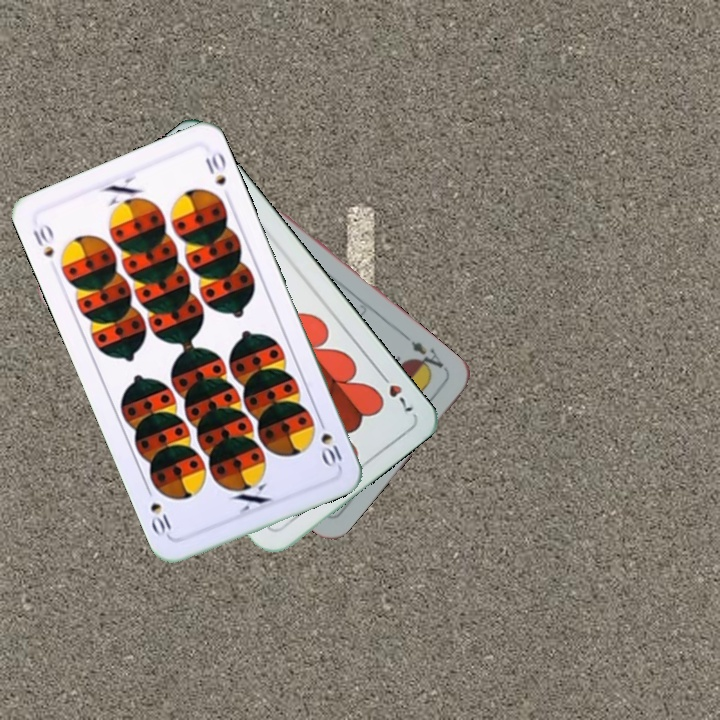EA: (406, 337, 450, 378)
H7: (374, 367, 417, 415)
S10: (314, 413, 345, 470), (28, 220, 57, 261)
